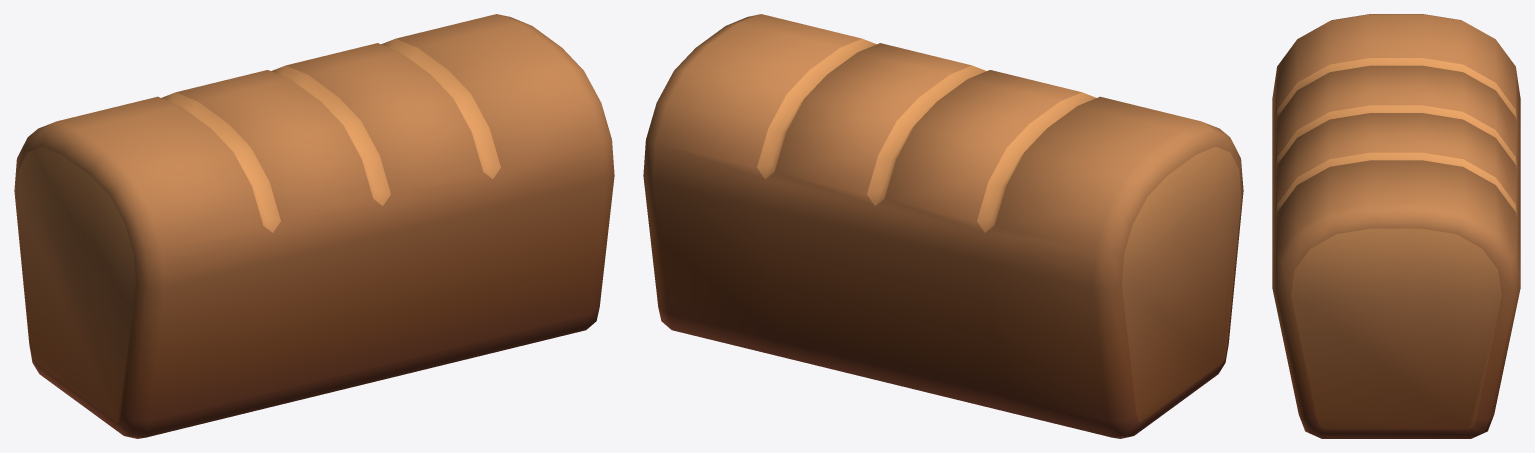
The model's file is Brot.fbx.
3 views of the same model, side by side, from view 1: azimuth 30°, elevation 25°; view 2: azimuth 150°, elevation 25°; view 3: azimuth 270°, elevation 25° (orthographic). The views are drawn at different scales.
Parts seen in each view (by area): view 1: Cube.043; view 2: Cube.043; view 3: Cube.043.
Part boxes in pixels (x1,y1,x2,y2): Cube.043: (14, 14, 614, 438); Cube.043: (643, 14, 1243, 438); Cube.043: (1272, 14, 1520, 438).
Size of the model in its own units: 17.79 by 9.49 by 9.11.
